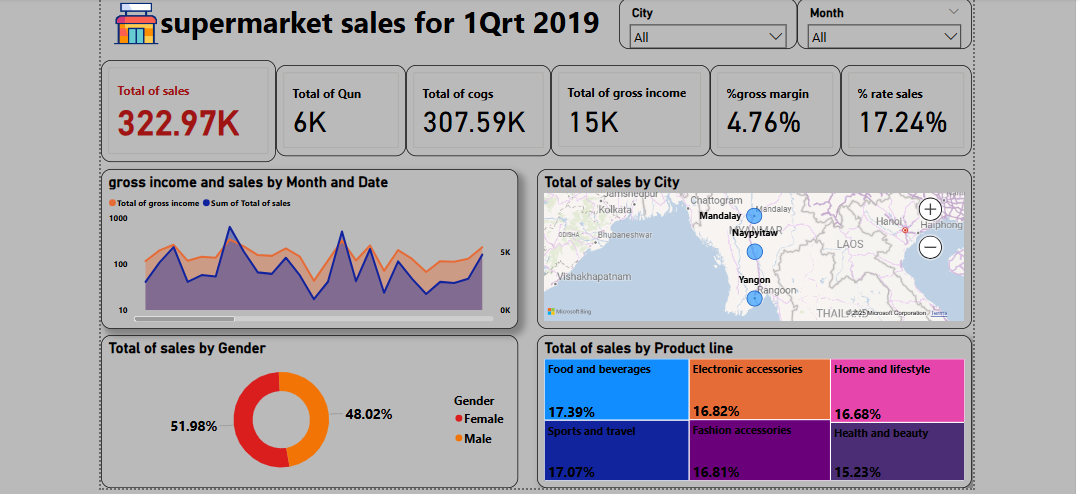

This screenshot's page, from the dashboard's own definition file:
{"tool":"powerbi","page":{"name":"Page 1","canvas":[1280,720],"ordinal":0},"visuals":[{"type":"cardVisual","fields":{"Data":["Sum(supermarket sales.Total of sales)"]},"box":[0,91.1,257.1,149.9],"z":0},{"type":"textbox","box":[0,0,830.2,117.6],"z":1000},{"type":"cardVisual","fields":{"Data":["_measures.Total of Qun"]},"box":[257.1,98.4,191,133.7],"z":2000},{"type":"image","box":[13.2,0,77.9,74.9],"z":3000},{"type":"cardVisual","fields":{"Data":["Sum(supermarket sales.cogs)"]},"box":[448.2,98.4,213.1,133.7],"z":4000},{"type":"donutChart","fields":{"Category":["supermarket sales.Gender"],"Y":["Sum(supermarket sales.Total of sales)"]},"box":[0,495.2,612.7,224.8],"z":5000},{"type":"treemap","title":"Total of sales by Product line","fields":{"Values":["Sum(supermarket sales.Total of sales)"],"Group":["supermarket sales.Product line"]},"box":[640.7,495.2,639.2,224.8],"z":6000},{"type":"lineChart","title":"gross income and sales by Month and Date","fields":{"Y":["Sum(supermarket sales.gross income)"],"Y2":["Sum(supermarket sales.Total of sales)"],"Category":["dcalender.Month","supermarket sales.Date"]},"box":[0,251.3,612.7,235.1],"z":7000},{"type":"slicer","fields":{"Values":["dcalender.Month"]},"box":[1022.7,0,257.1,74.9],"z":8000},{"type":"cardVisual","fields":{"Data":["_measures.%gross margin percentage"]},"box":[894.9,98.4,192.5,133.7],"z":9000},{"type":"cardVisual","fields":{"Data":["_measures.gross income"]},"box":[661.2,98.4,233.6,133.7],"z":10000},{"type":"slicer","fields":{"Values":["supermarket sales.City"]},"box":[761.1,0,261.6,74.9],"z":11000},{"type":"map","fields":{"Category":["supermarket sales.City"],"Size":["_measures.Total of sales"]},"box":[640.7,251.3,639.2,235.1],"z":12000},{"type":"cardVisual","fields":{"Data":["_measures.% rate sales"]},"box":[1087.3,98.4,192.5,133.7],"z":13000}]}

Visuals, with their boxes in screenshot pixels (x1, y1, x2, y2):
cardVisual - Sum(supermarket sales.Total of sales): 101/59/275/160
textbox: 101/0/664/77
cardVisual - _measures.Total of Qun: 275/64/405/154
image: 110/0/163/48
cardVisual - Sum(supermarket sales.cogs): 405/64/549/154
donutChart - supermarket sales.Gender x Sum(supermarket sales.Total of sales): 101/333/516/485
"Total of sales by Product line" treemap: 535/333/968/485
"gross income and sales by Month and Date" lineChart: 101/167/516/327
slicer - dcalender.Month: 794/0/968/48
cardVisual - _measures.%gross margin percentage: 707/64/838/154
cardVisual - _measures.gross income: 549/64/707/154
slicer - supermarket sales.City: 617/0/794/48
map - supermarket sales.City x _measures.Total of sales: 535/167/968/327
cardVisual - _measures.% rate sales: 838/64/968/154
